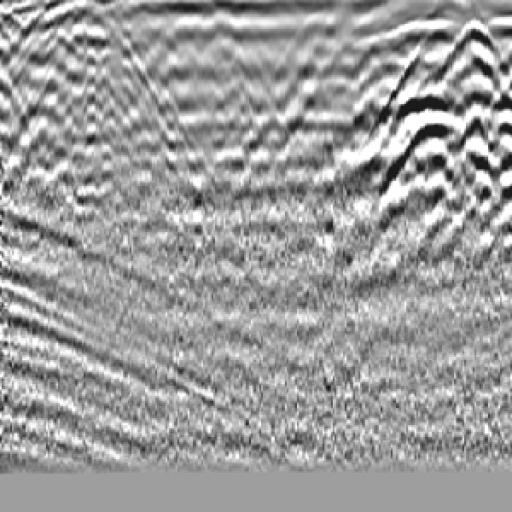non-metallic: (369, 17, 512, 260)
